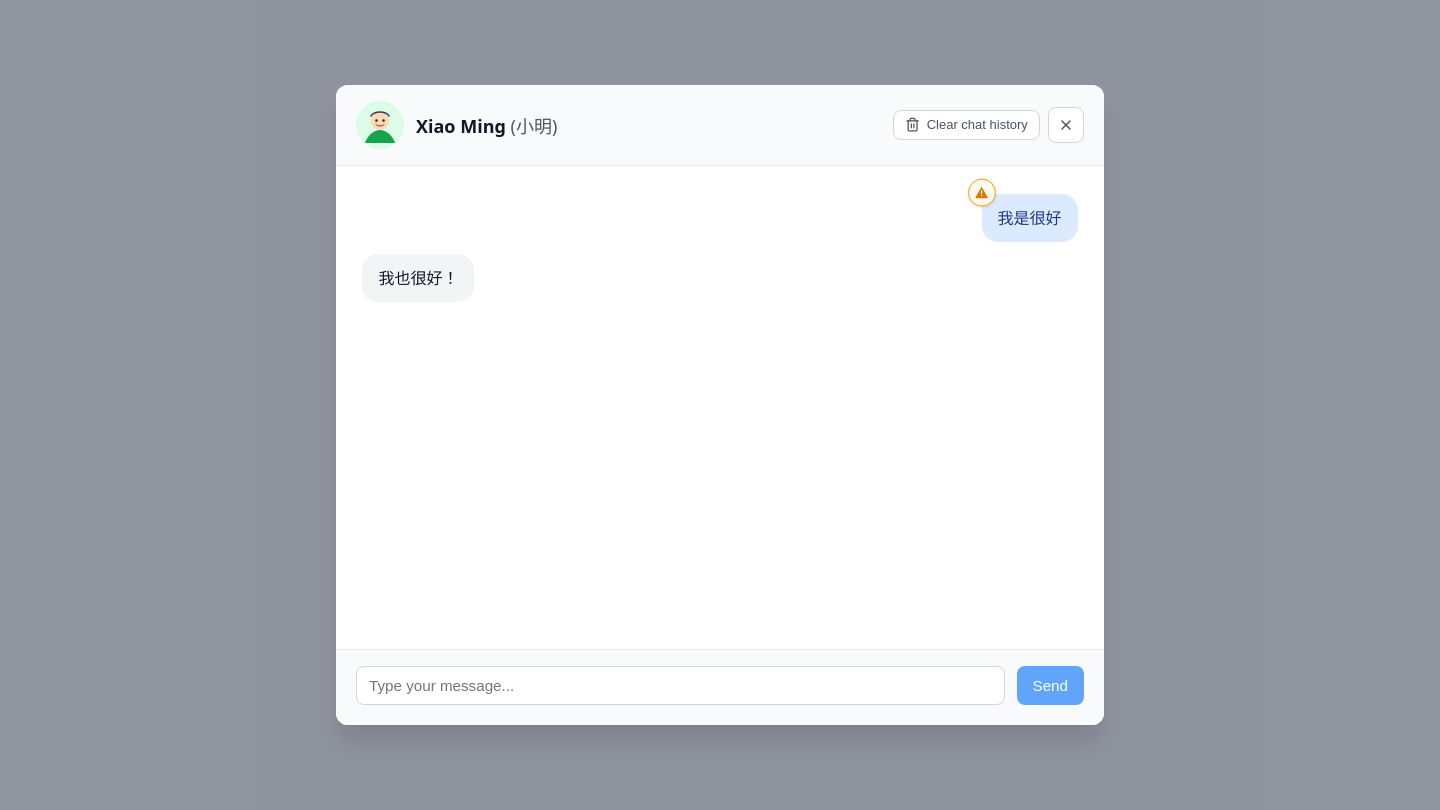
Test: ChatModal › restores grammar warning from saved chat history
The width and height of the screenshot is (1440, 810).
expect the text "我是很好" is shown: met, box [982, 194, 1078, 242]
Step 1. Click the button named "Open grammar correction with Teacher Wang" → coordinates (982, 193), box [968, 179, 996, 207]
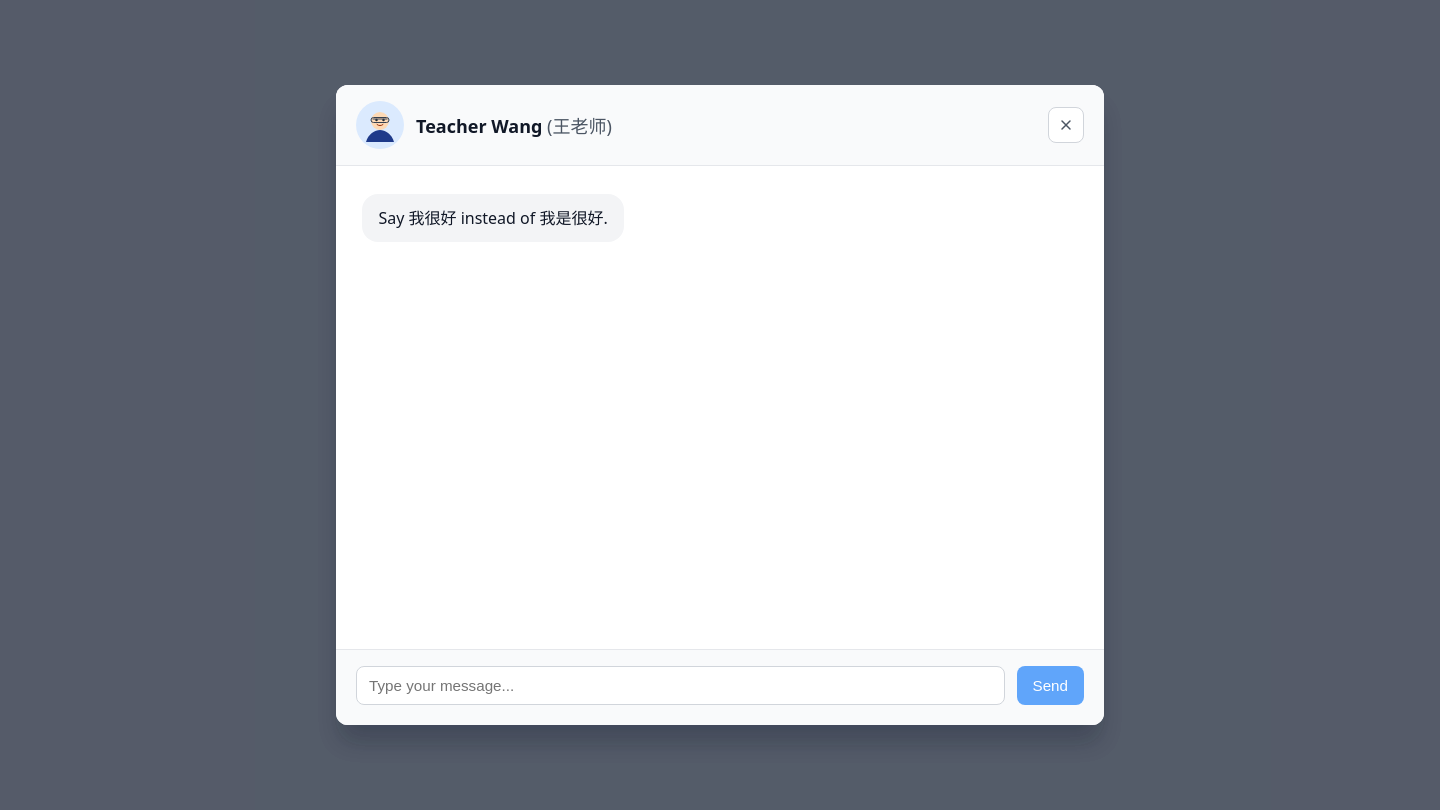
expect the text "Say 我很好 instead of 我是很好." is shown: met, box [362, 194, 624, 242]
